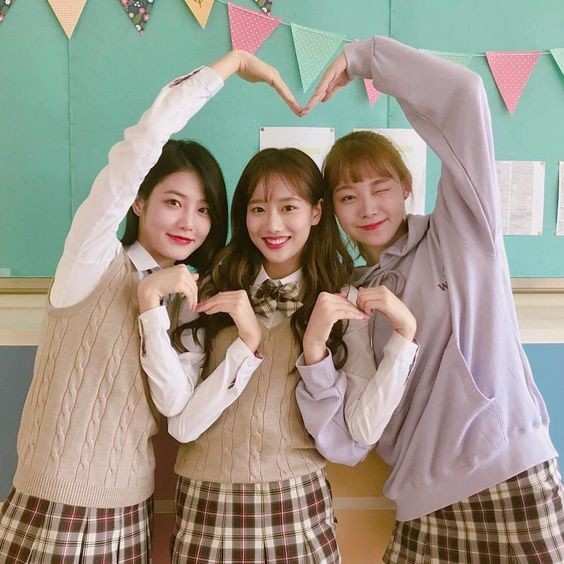people: (316, 125, 480, 564), (112, 129, 217, 564), (225, 141, 320, 564)
